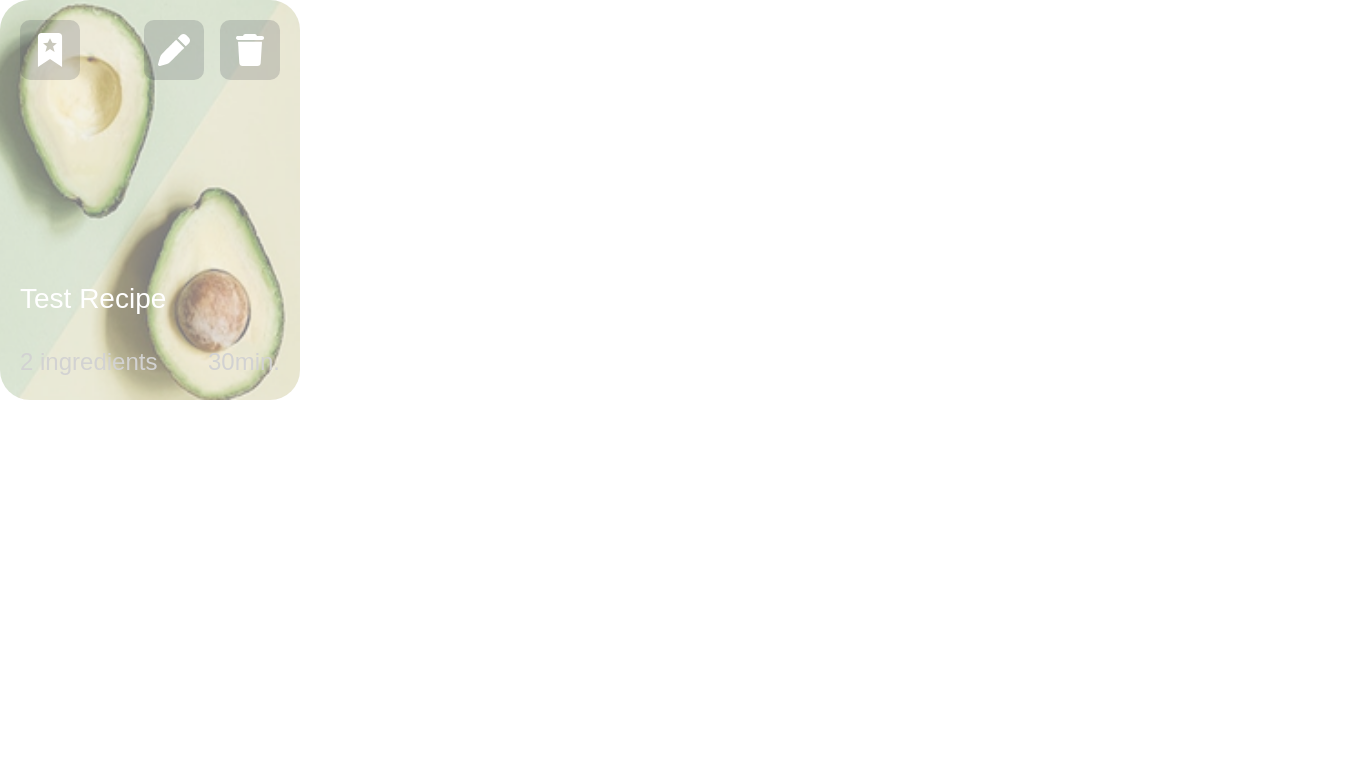
Test: Recipe card test › Shows the error message
This screenshot has width=1366, height=768.
Click the button named "add to bookmarks" at {"x": 50, "y": 50}, box [20,20,80,80]
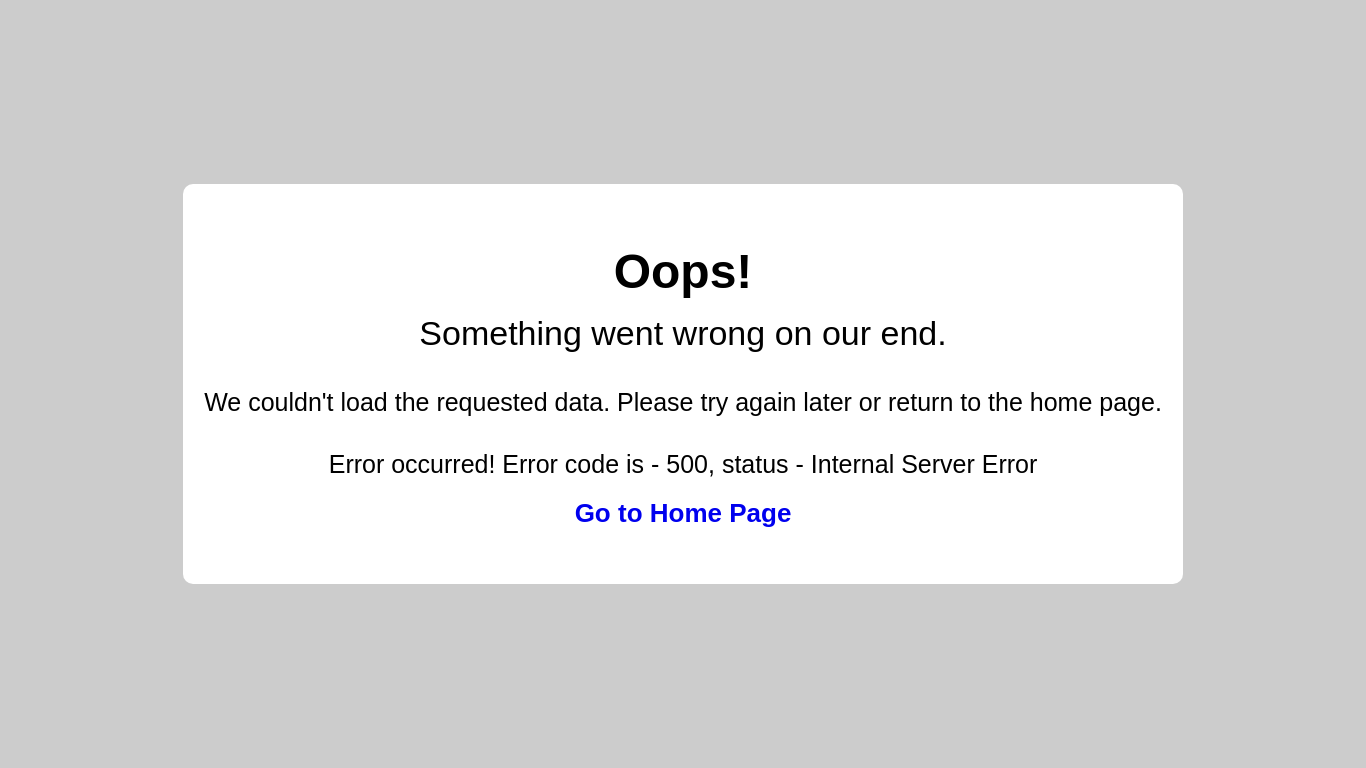
Check: the text "Something went wrong on our end." is shown, box [419,314,947,352]
